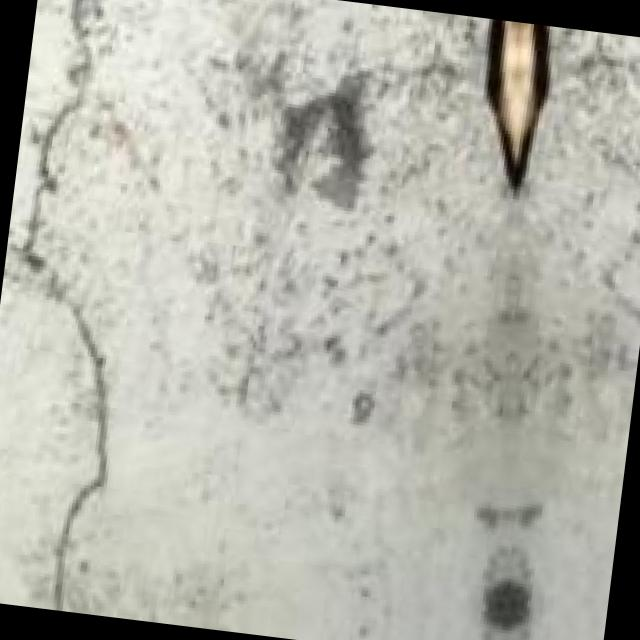crack: (0, 0, 181, 613)
